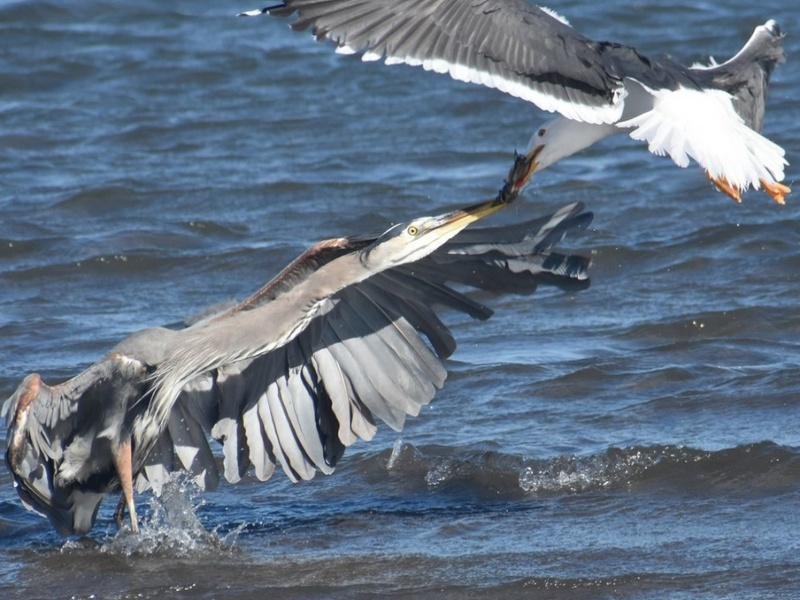heron: (6, 199, 497, 551)
